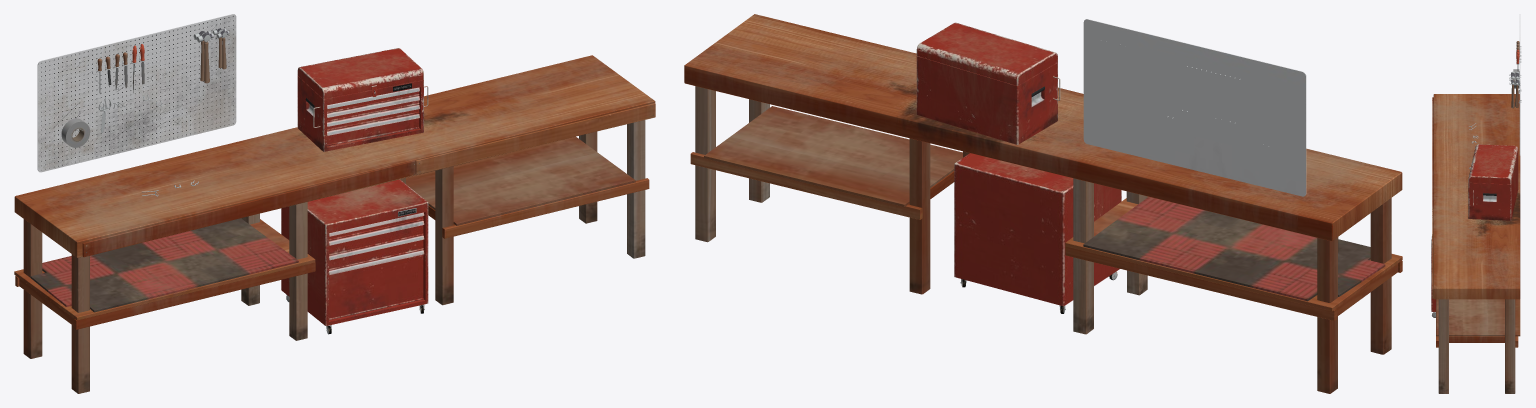
File: workbench.glb
The picture shows the model from 3 angles, left to right: view 1: azimuth 30°, elevation 25°; view 2: azimuth 150°, elevation 25°; view 3: azimuth 270°, elevation 25°; orthographic projection. The views are drawn at different scales.
Visible parts, largest first — view 1: Object_3; view 2: Object_3; view 3: Object_3.
Boxes of the visible parts, x1,y1,x2,y2 form: Object_3: [14, 14, 655, 393]; Object_3: [684, 14, 1402, 393]; Object_3: [1431, 14, 1521, 393].
Size of the model in its own units: 372 by 175 by 72.78.
1 material, 1 textured.
